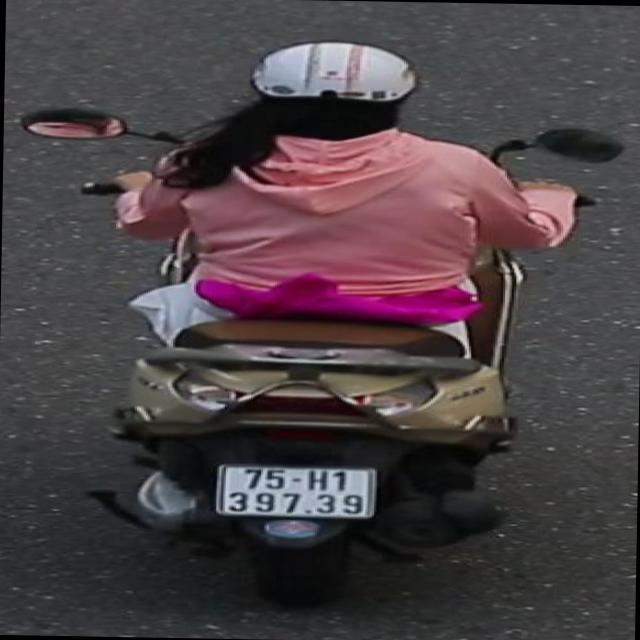LP: (206, 458, 384, 523)
helmet: (238, 34, 424, 126)
